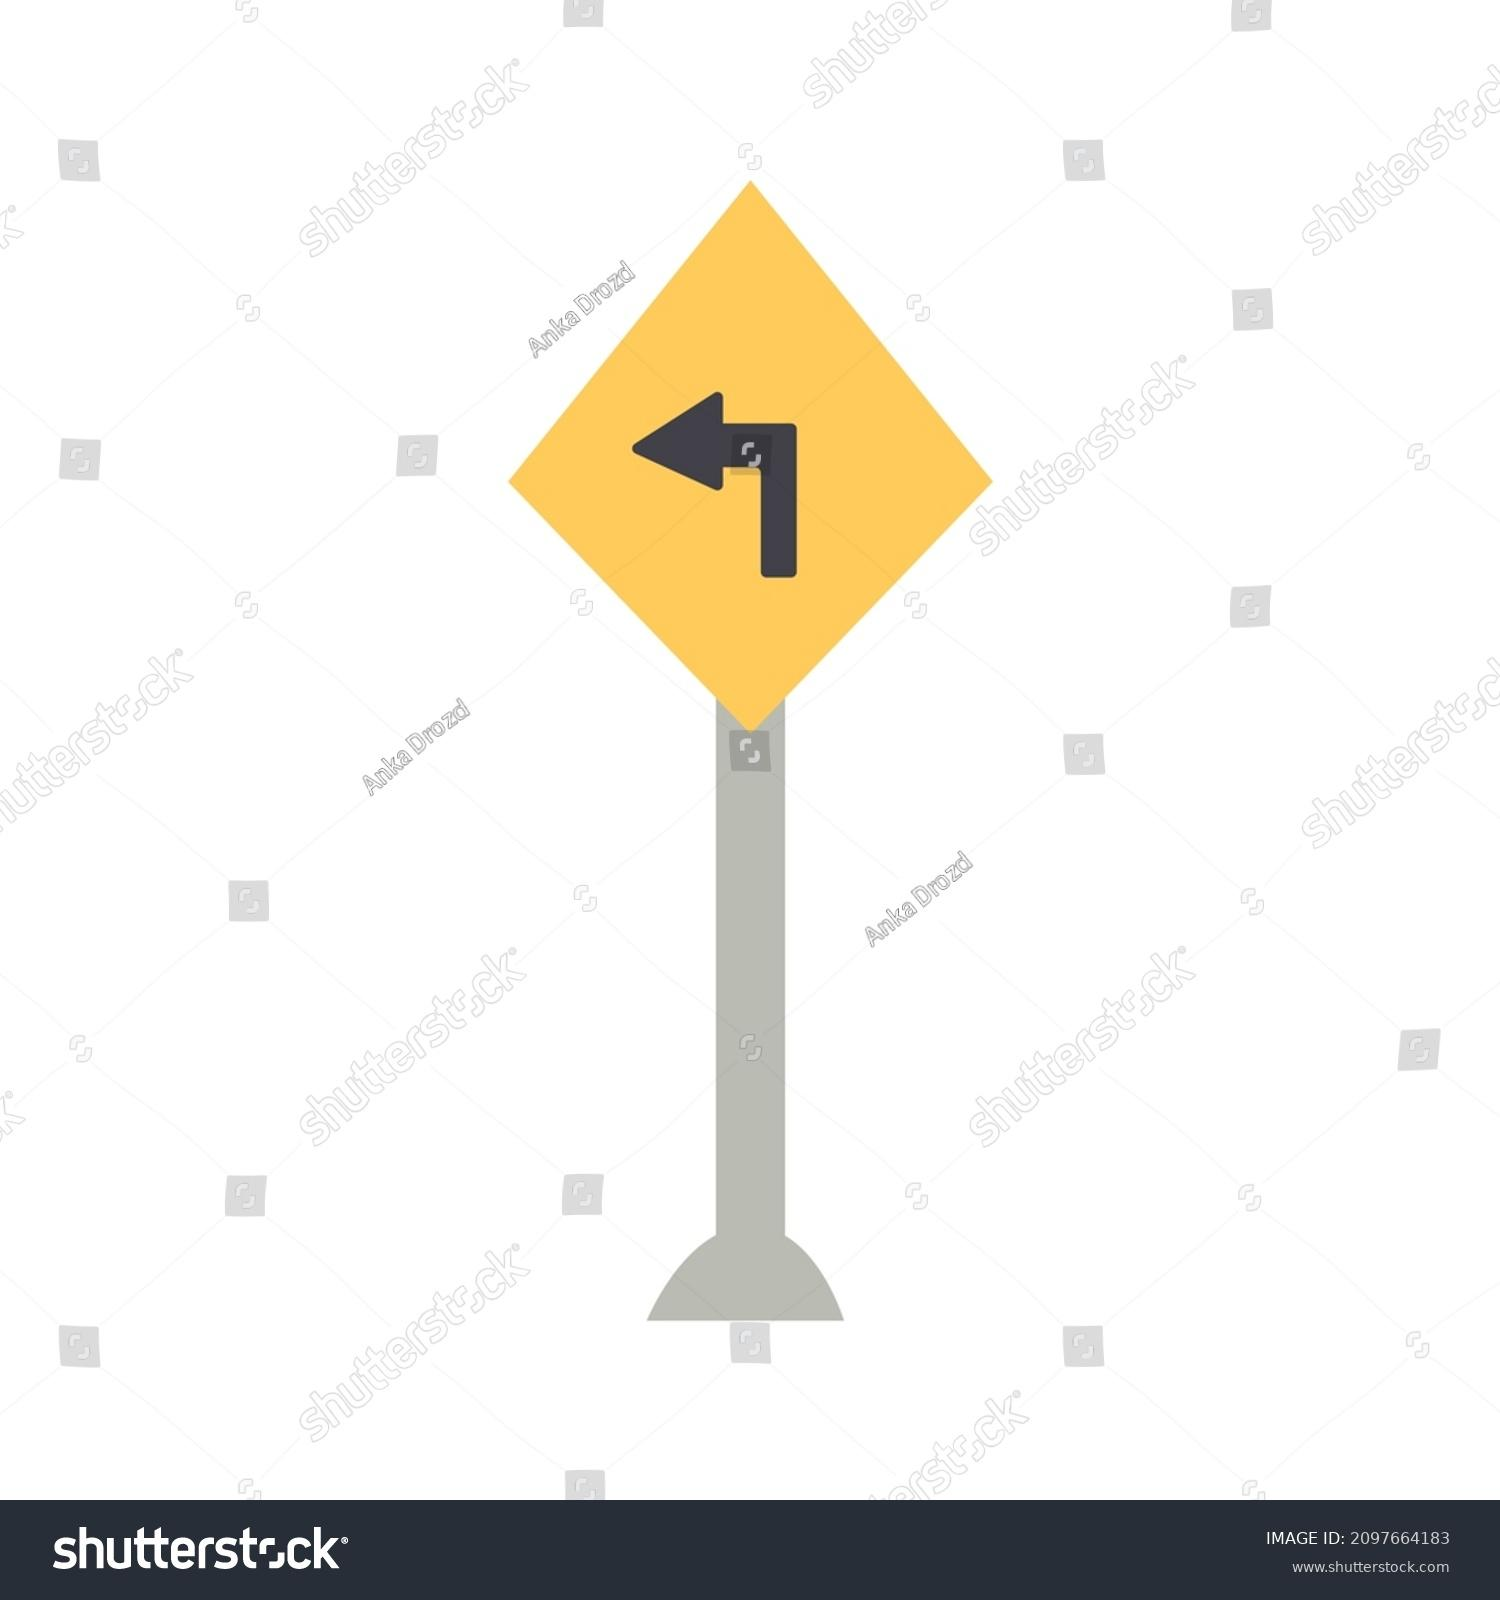Left hand curve: (517, 185, 1008, 703)
